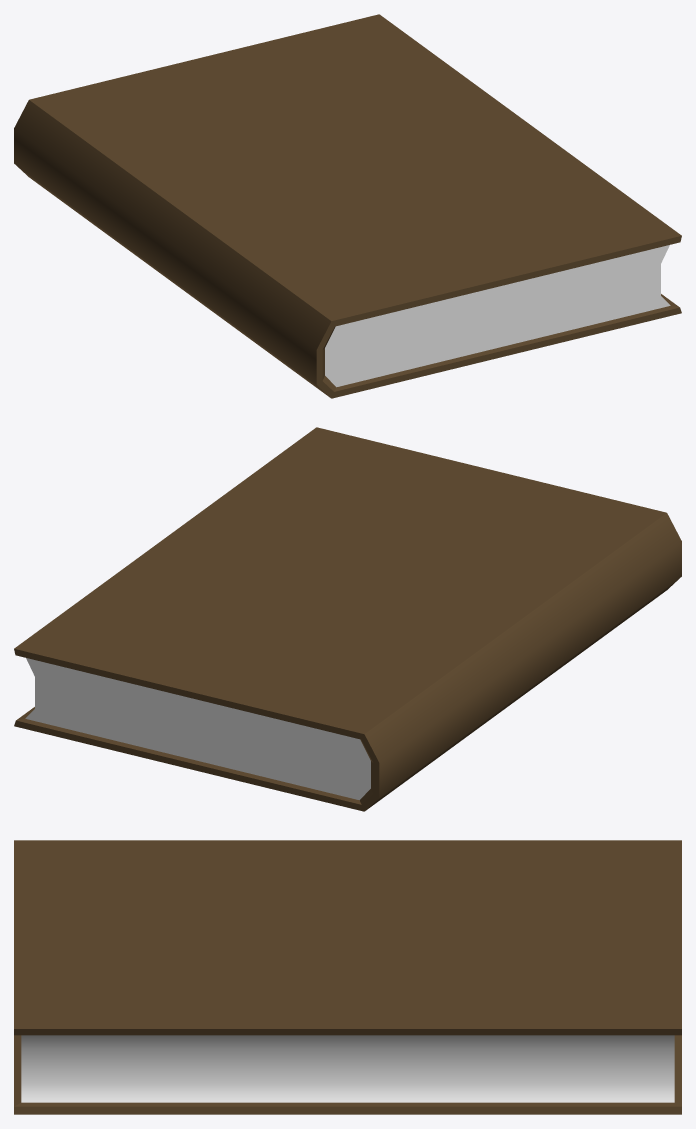
Rendered from PT_Book_closed_01.fbx.
3 renders of one model, top to bottom at view 1: azimuth 30°, elevation 25°; view 2: azimuth 150°, elevation 25°; view 3: azimuth 270°, elevation 25°, orthographic. The views are drawn at different scales.
Visible parts, largest first — view 1: PT_Book_closed_01; view 2: PT_Book_closed_01; view 3: PT_Book_closed_01.
Part boxes in pixels (bbox=[...]): PT_Book_closed_01: bbox=[14, 14, 681, 398]; PT_Book_closed_01: bbox=[14, 427, 681, 811]; PT_Book_closed_01: bbox=[14, 840, 681, 1114].
Bounding box in the file's own units: 18.51 × 3.75 × 26.56.
